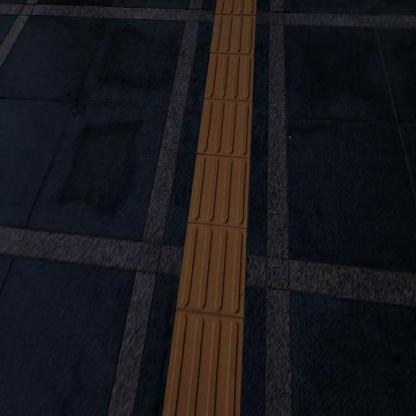podotacti: (162, 0, 260, 415)
